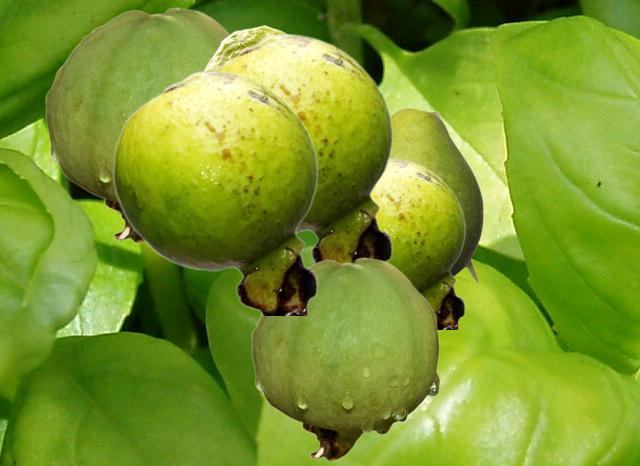guava: (112, 70, 318, 314), (45, 7, 229, 242), (214, 33, 393, 263), (251, 257, 439, 460), (391, 107, 482, 284), (373, 158, 465, 328), (204, 25, 286, 69)
